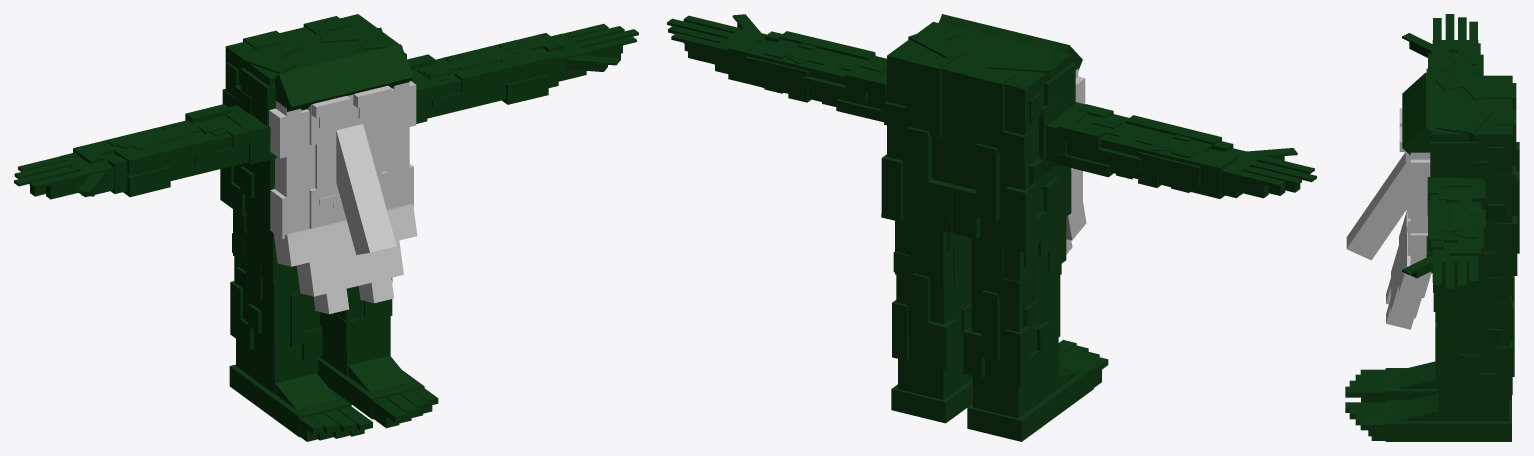
The picture shows the model from 3 angles, left to right: view 1: azimuth 30°, elevation 25°; view 2: azimuth 150°, elevation 25°; view 3: azimuth 270°, elevation 25°; orthographic projection. The views are drawn at different scales.
Parts seen in each view (by area): view 1: Pack 9.001; view 2: Pack 9.001; view 3: Pack 9.001.
Part boxes in pixels (bbox=[...]): Pack 9.001: bbox=[14, 14, 638, 441]; Pack 9.001: bbox=[667, 14, 1316, 441]; Pack 9.001: bbox=[1345, 14, 1519, 441].
Bounding box in the file's own units: 232 × 124 × 62.07.
